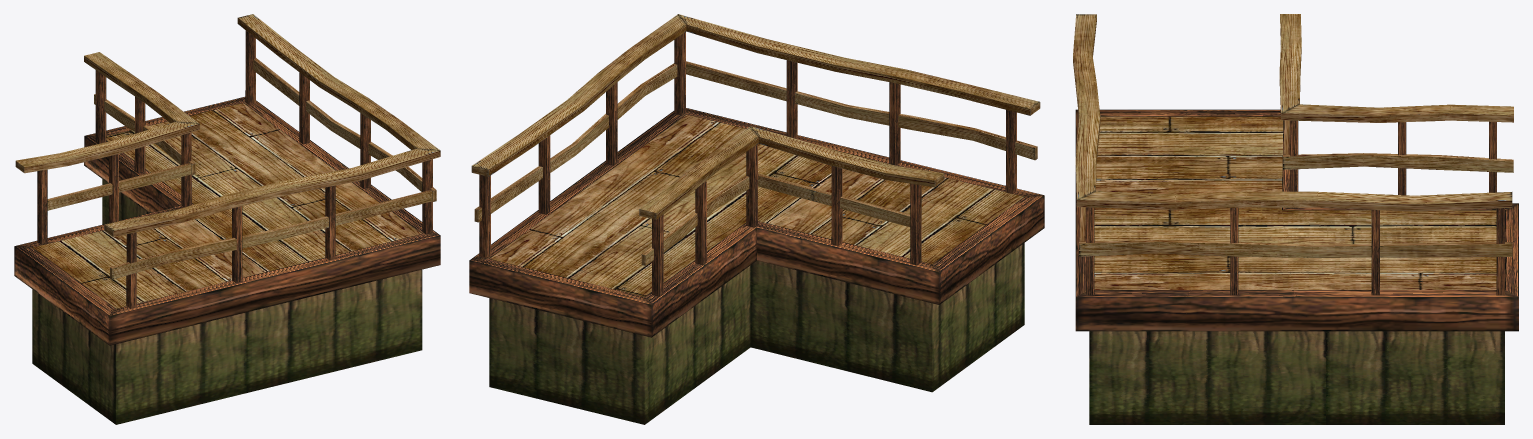
Rendered from INST_WH2_L_BLOCK.fbx.
3 views of the same model, side by side, from view 1: azimuth 30°, elevation 25°; view 2: azimuth 150°, elevation 25°; view 3: azimuth 270°, elevation 25° (orthographic). The views are drawn at different scales.
Visible parts, largest first — view 1: INST_WH2_L_BLOCK; view 2: INST_WH2_L_BLOCK; view 3: INST_WH2_L_BLOCK.
Part boxes in pixels (x1,y1,x2,y2): INST_WH2_L_BLOCK: [14, 14, 440, 424]; INST_WH2_L_BLOCK: [469, 14, 1044, 424]; INST_WH2_L_BLOCK: [1073, 14, 1518, 424].
Size of the model in its own units: 40381 by 23135 by 40226.
4 materials, 4 textured.
